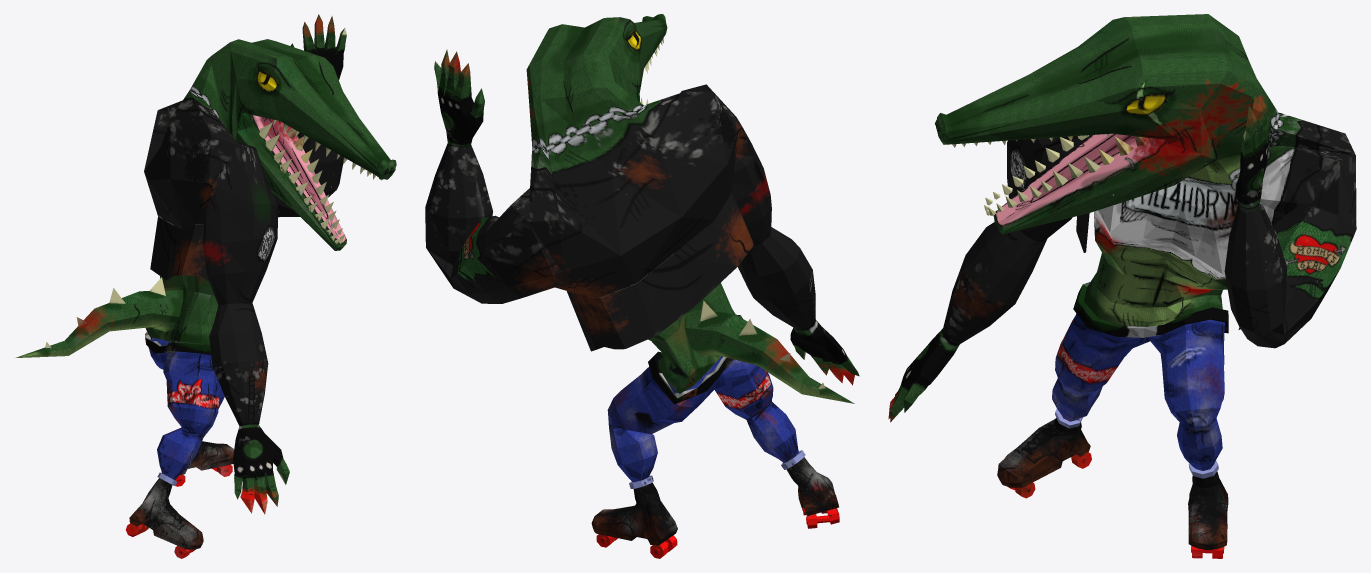
File: cocodrilaBonesSelect_000015.obj
The picture shows the model from 3 angles, left to right: view 1: azimuth 30°, elevation 25°; view 2: azimuth 150°, elevation 25°; view 3: azimuth 270°, elevation 25°; orthographic projection. The views are drawn at different scales.
Parts seen in each view (by area): view 1: Crocodile.002_Cylinder.002; view 2: Crocodile.002_Cylinder.002; view 3: Crocodile.002_Cylinder.002.
Boxes of the visible parts, box(x1,y1,x2,y2) form: Crocodile.002_Cylinder.002: box(15, 14, 396, 558); Crocodile.002_Cylinder.002: box(425, 14, 859, 558); Crocodile.002_Cylinder.002: box(888, 14, 1356, 558).
Bounding box in the file's own units: 5.21 × 6.16 × 4.68.
